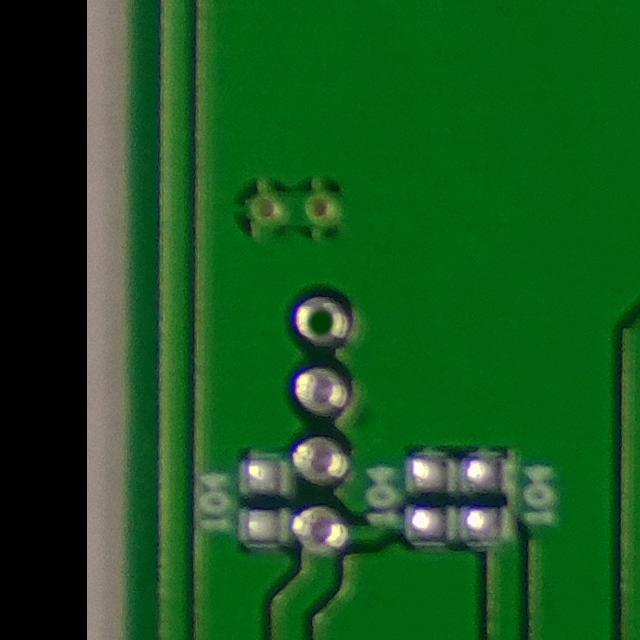missing_hole: (287, 293, 353, 348)
